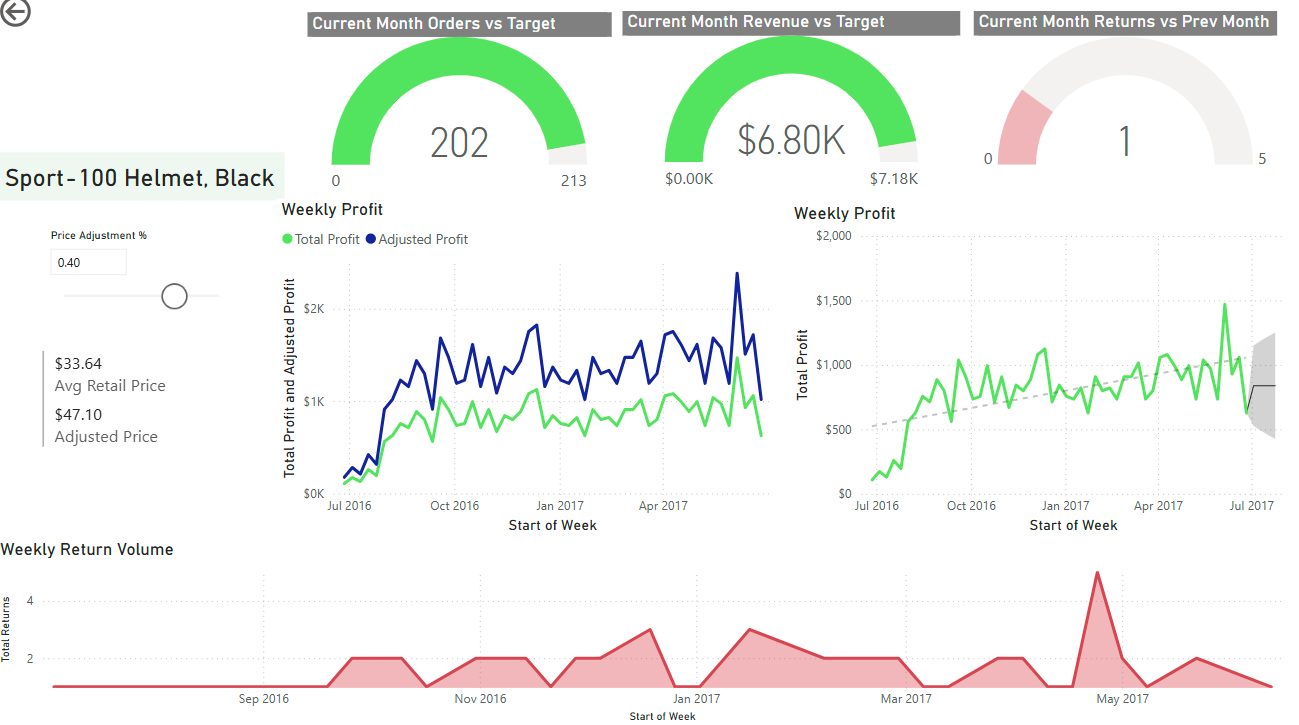

Layout of this report page (visuals, bound fields, positions):
{"tool":"powerbi","page":{"name":"Product Detail","canvas":[1280,720],"ordinal":1},"visuals":[{"type":"lineChart","title":"Weekly Profit","fields":{"Category":["AW_Calendar_Lookup.Start of Week"],"Y":["AW_Sales.Total Profit"]},"box":[776.9,206.2,503.1,329.2],"z":1000},{"type":"stackedAreaChart","title":"Weekly Return Volume","fields":{"Category":["AW_Calendar_Lookup.Start of Week"],"Y":["AW_Returns.Total Returns"]},"box":[0,535.1,1279.7,185.1],"z":2000},{"type":"gauge","title":"Current Month Orders vs Target","fields":{"Y":["AW_Sales.Total Orders"],"MaxValue":["AW_Sales.Order Target"]},"box":[305.1,20.5,297.4,185.9],"z":3000},{"type":"gauge","title":"Current Month Revenue vs Target","fields":{"MaxValue":["AW_Sales.Revenue Target"],"Y":["AW_Sales.Total Revenue"]},"box":[613.8,20,330.8,184.6],"z":4000},{"type":"gauge","title":"Current Month Returns vs Prev Month","fields":{"Y":["AW_Returns.Total Returns"],"MaxValue":["AW_Sales.Prev Month Returns"]},"box":[956.9,20,296.9,161.5],"z":5000},{"type":"card","fields":{"Values":["Min(AW_Product_Lookup.ProductName)"]},"box":[0,157.7,283.3,47.4],"z":6000},{"type":"actionButton","box":[0,0,100,40],"z":7000},{"type":"slicer","fields":{"Values":["Price Adjustment %.Price Adjustment %"]},"box":[41.5,227.7,200,120],"z":8000},{"type":"multiRowCard","fields":{"Values":["AW_Product_Lookup.Avg Retail Price","AW_Product_Lookup.Adjusted Price"]},"box":[41.5,347.7,200,124.6],"z":9000},{"type":"lineChart","title":"Weekly Profit","fields":{"Category":["AW_Calendar_Lookup.Start of Week"],"Y":["AW_Sales.Total Profit","AW_Sales.Adjusted Profit"]},"box":[275.4,203.1,504.6,332.3],"z":10000}]}

Visuals, with their boxes in screenshot pixels (x1, y1, x2, y2), scaled from the page's 1280x720 canvas onto the 1299x725 screenshot:
"Weekly Profit" lineChart: bbox=[788, 208, 1298, 539]
"Weekly Return Volume" stackedAreaChart: bbox=[0, 539, 1298, 724]
"Current Month Orders vs Target" gauge: bbox=[310, 21, 611, 208]
"Current Month Revenue vs Target" gauge: bbox=[623, 20, 959, 206]
"Current Month Returns vs Prev Month" gauge: bbox=[971, 20, 1272, 183]
card - Min(AW_Product_Lookup.ProductName): bbox=[0, 159, 288, 207]
actionButton: bbox=[0, 0, 101, 40]
slicer - Price Adjustment %.Price Adjustment %: bbox=[42, 229, 245, 350]
multiRowCard - AW_Product_Lookup.Avg Retail Price x AW_Product_Lookup.Adjusted Price: bbox=[42, 350, 245, 476]
"Weekly Profit" lineChart: bbox=[279, 205, 792, 539]
